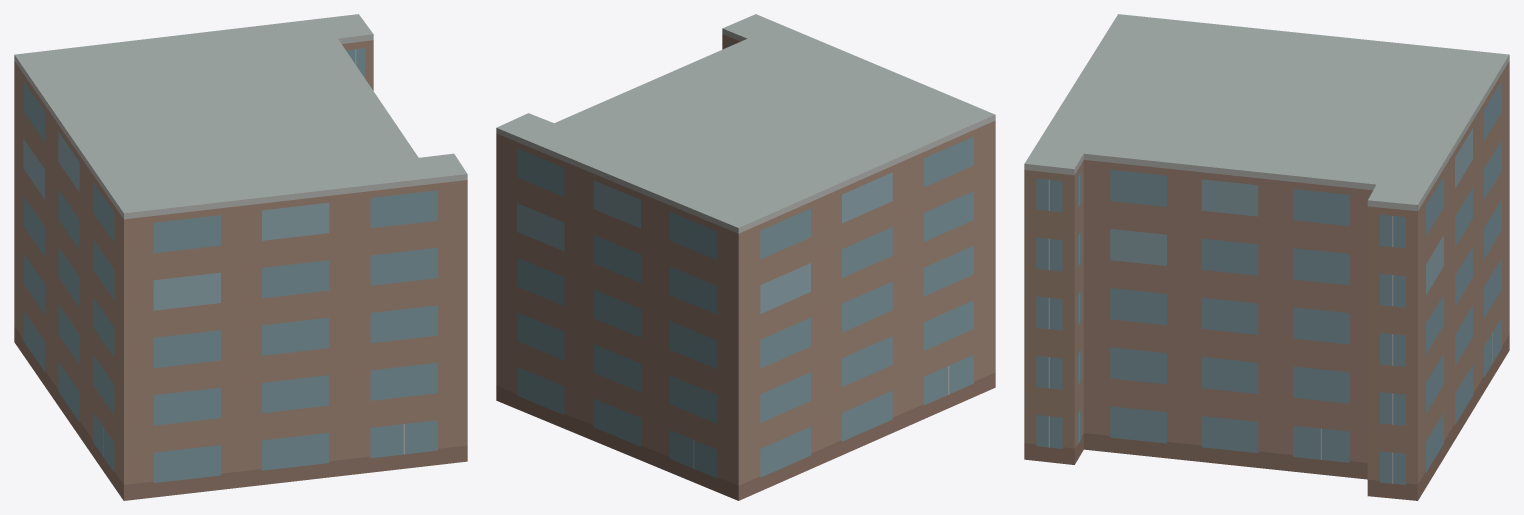
File: survey-upis-32911743.glb
The picture shows the model from 3 angles, left to right: view 1: azimuth 30°, elevation 25°; view 2: azimuth 150°, elevation 25°; view 3: azimuth 270°, elevation 25°; orthographic projection. The views are drawn at different scales.
Parts seen in each view (by area): view 1: survey-upis-32911743.tmp; view 2: survey-upis-32911743.tmp; view 3: survey-upis-32911743.tmp.
Part boxes in pixels (x1,y1,x2,y2): survey-upis-32911743.tmp: [14, 14, 467, 500]; survey-upis-32911743.tmp: [496, 14, 995, 500]; survey-upis-32911743.tmp: [1024, 14, 1509, 500].
Bounding box in the file's own units: 16.36 × 11.8 × 17.55.
